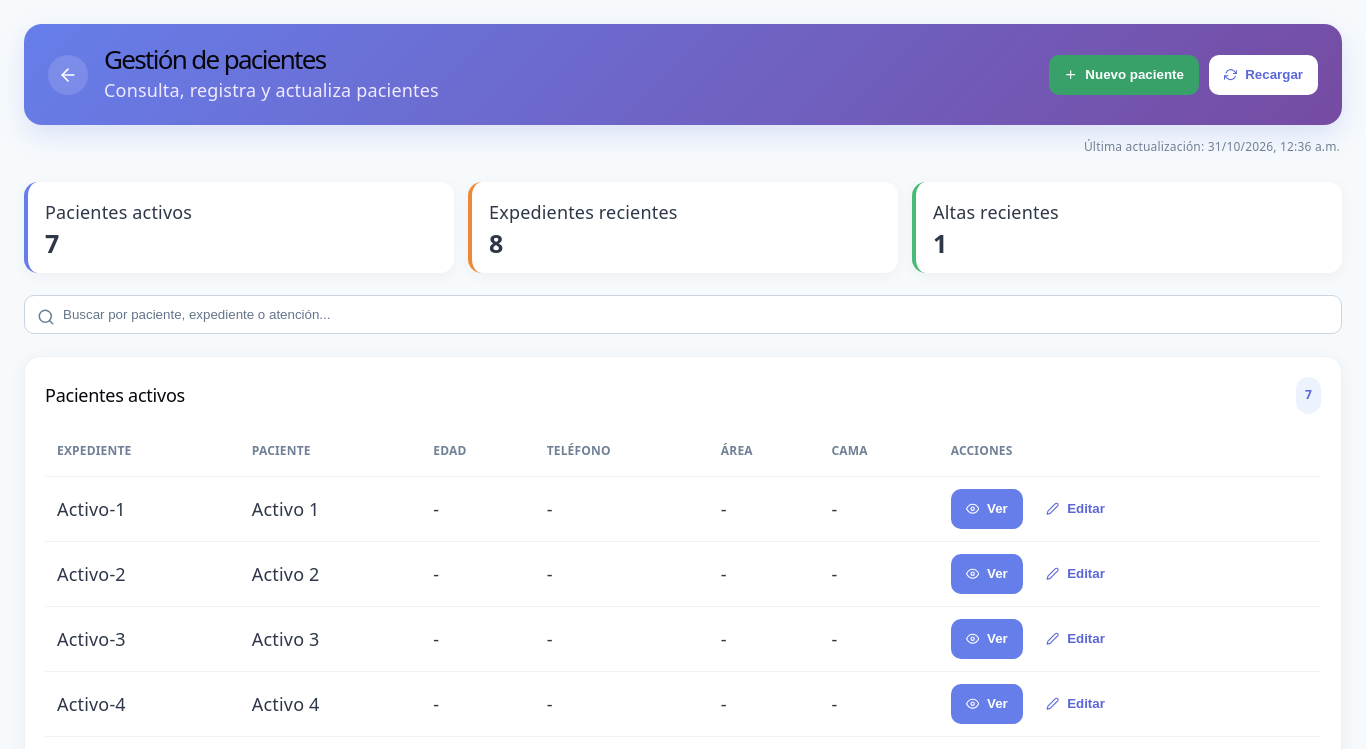
Test case: ignores a late response from a previous patient search
Expected: the text "Activo 1" is shown, top-left (240, 476), bottom-right (421, 541)
Type "anterior" into the field with placeholder "Buscar por paciente, expediente o atención..." at (683, 315), box top-left (24, 296), bottom-right (1342, 334)
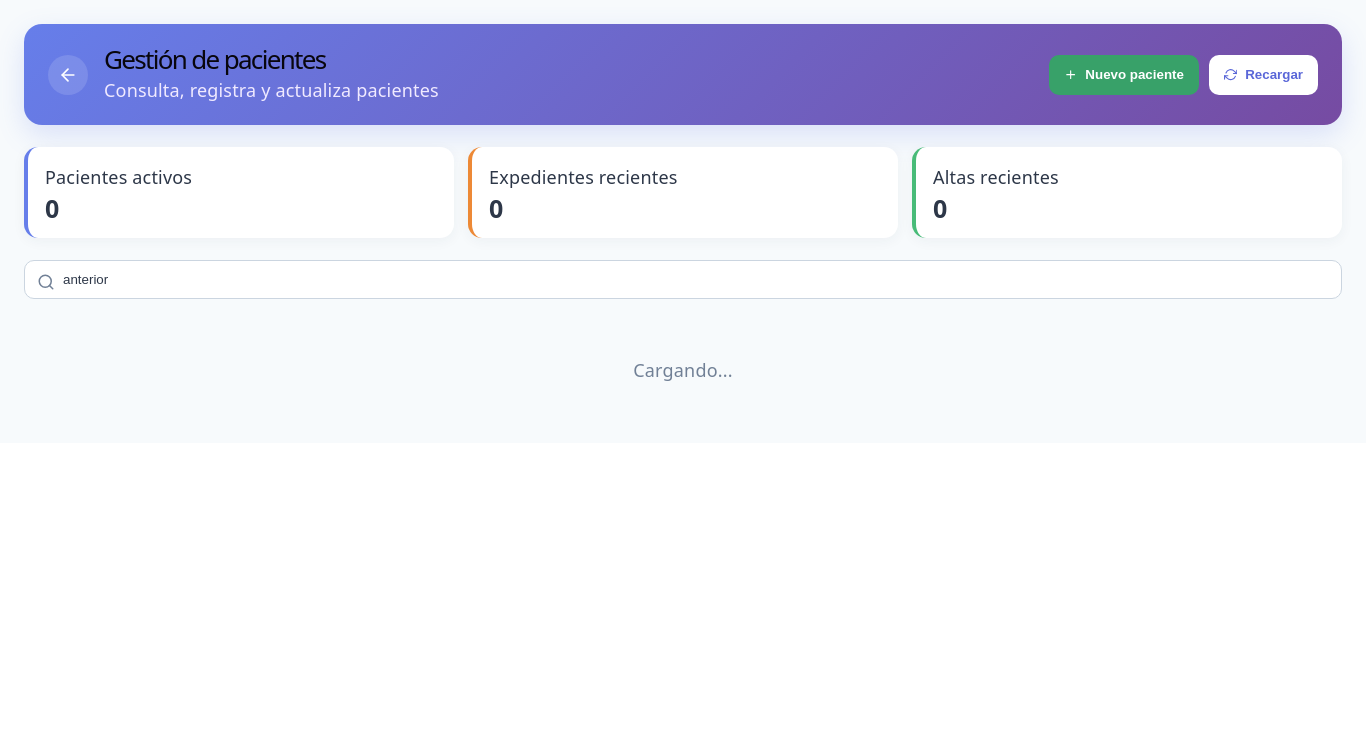
Replace the text in the field with placeholder "Buscar por paciente, expediente o atención..." with "actual" at (683, 280), box top-left (24, 260), bottom-right (1342, 299)
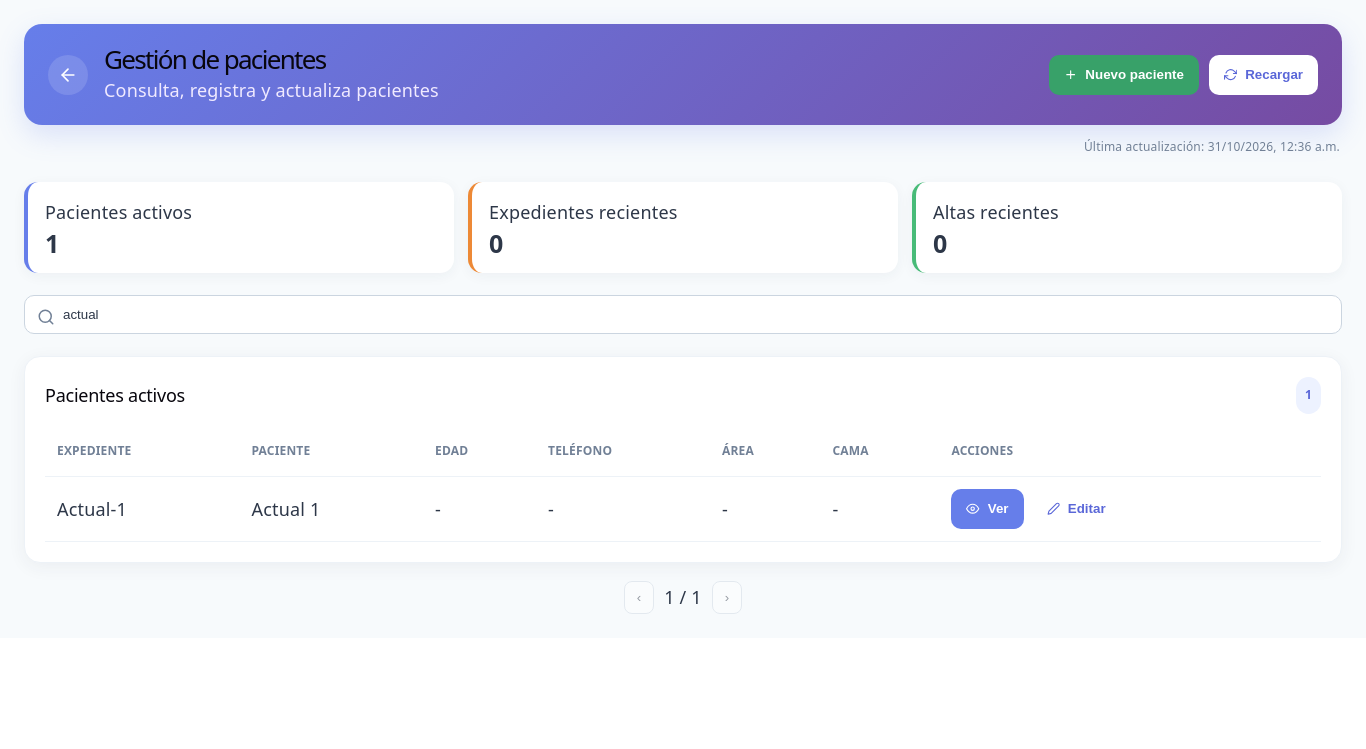
Now the text "Actual 1" is shown, box top-left (240, 476), bottom-right (423, 541)
